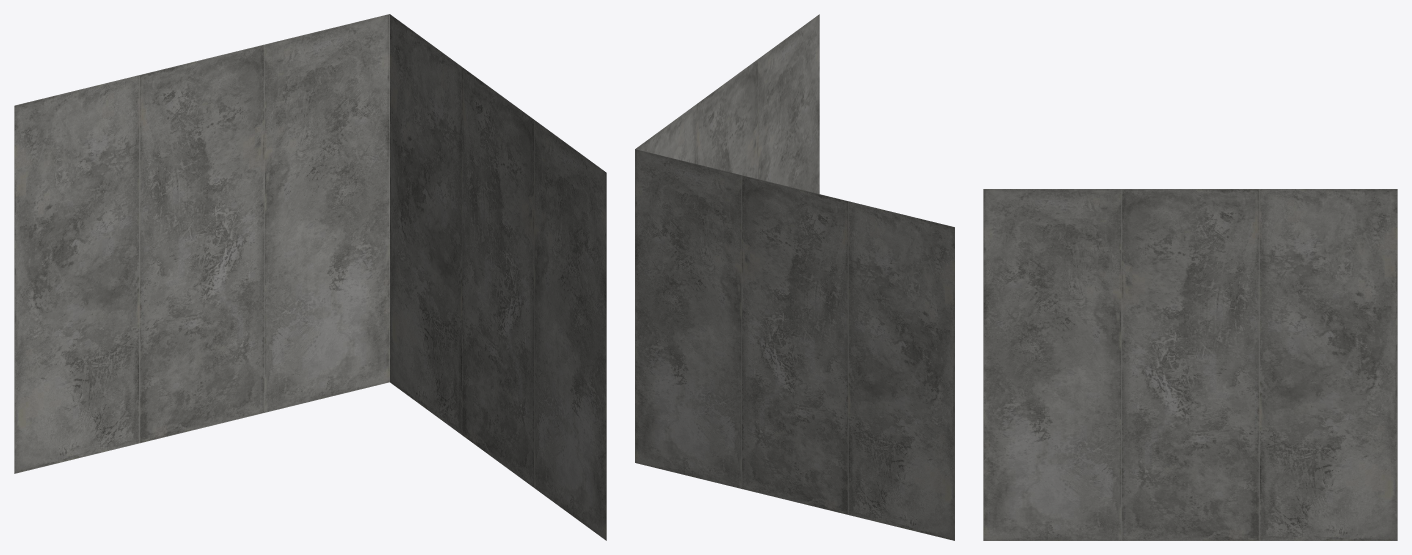
The model's file is wall_corner_interior_back.fbx.
3 renders of one model, left to right at view 1: azimuth 30°, elevation 25°; view 2: azimuth 150°, elevation 25°; view 3: azimuth 270°, elevation 25°, orthographic. The views are drawn at different scales.
Visible parts, largest first — view 1: Wall_CornerInterior_Back; view 2: Wall_CornerInterior_Back; view 3: Wall_CornerInterior_Back.
Boxes of the visible parts, <box> form: Wall_CornerInterior_Back: <box>14,14,606,540</box>; Wall_CornerInterior_Back: <box>635,14,954,540</box>; Wall_CornerInterior_Back: <box>983,189,1397,540</box>.
Size of the model in its own units: 126 by 118 by 126.
Materials: 1 (1 with a texture image).
